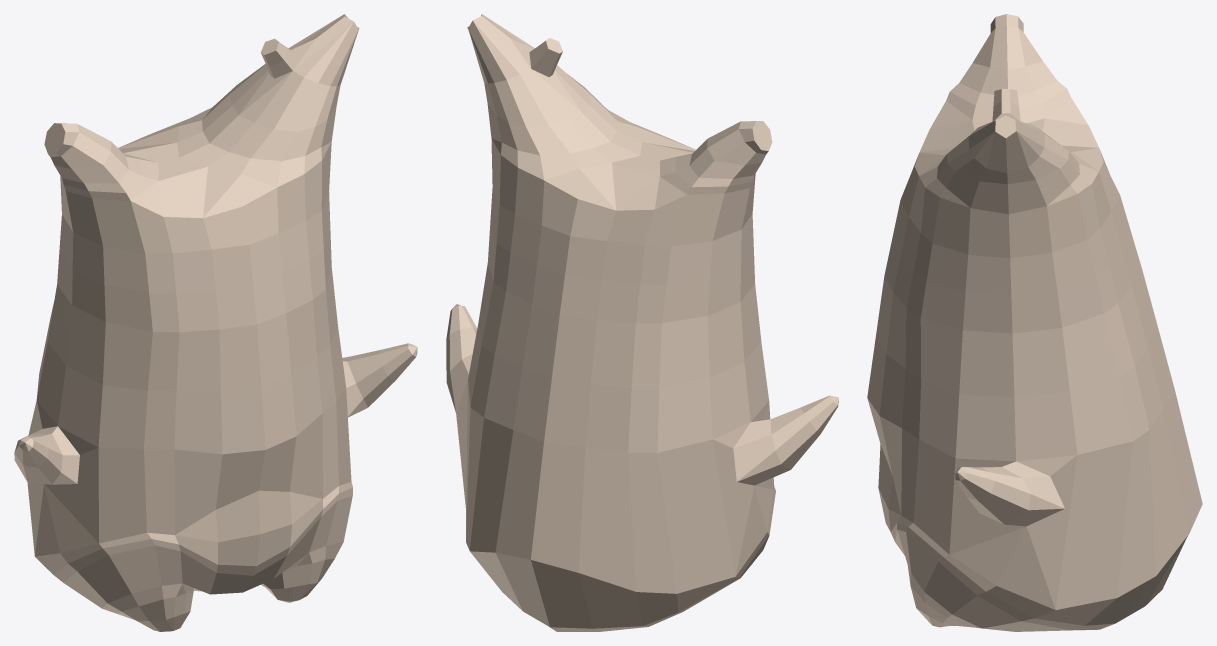
The model's file is frame_0125.obj.
3 renders of one model, left to right at view 1: azimuth 30°, elevation 25°; view 2: azimuth 150°, elevation 25°; view 3: azimuth 270°, elevation 25°, orthographic. The views are drawn at different scales.
Parts seen in each view (by area): view 1: korok; view 2: korok; view 3: korok.
Boxes of the visible parts, x1,y1,x2,y2 form: korok: (14, 14, 417, 631); korok: (446, 14, 838, 631); korok: (867, 14, 1202, 631).
Size of the model in its own units: 1.46 by 1.95 by 1.05.
